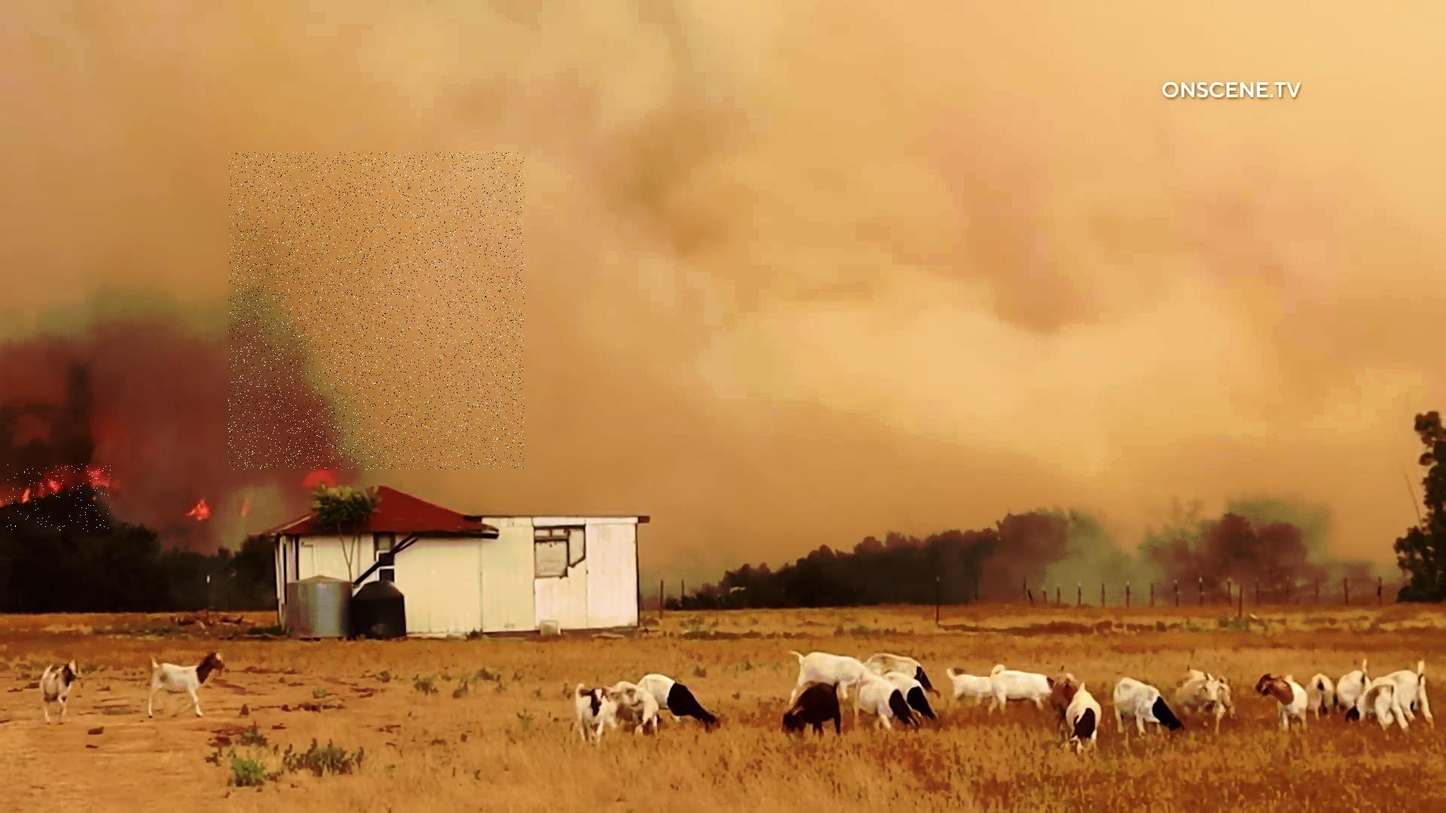fire: (6, 464, 112, 532)
smoke: (228, 152, 525, 470)
